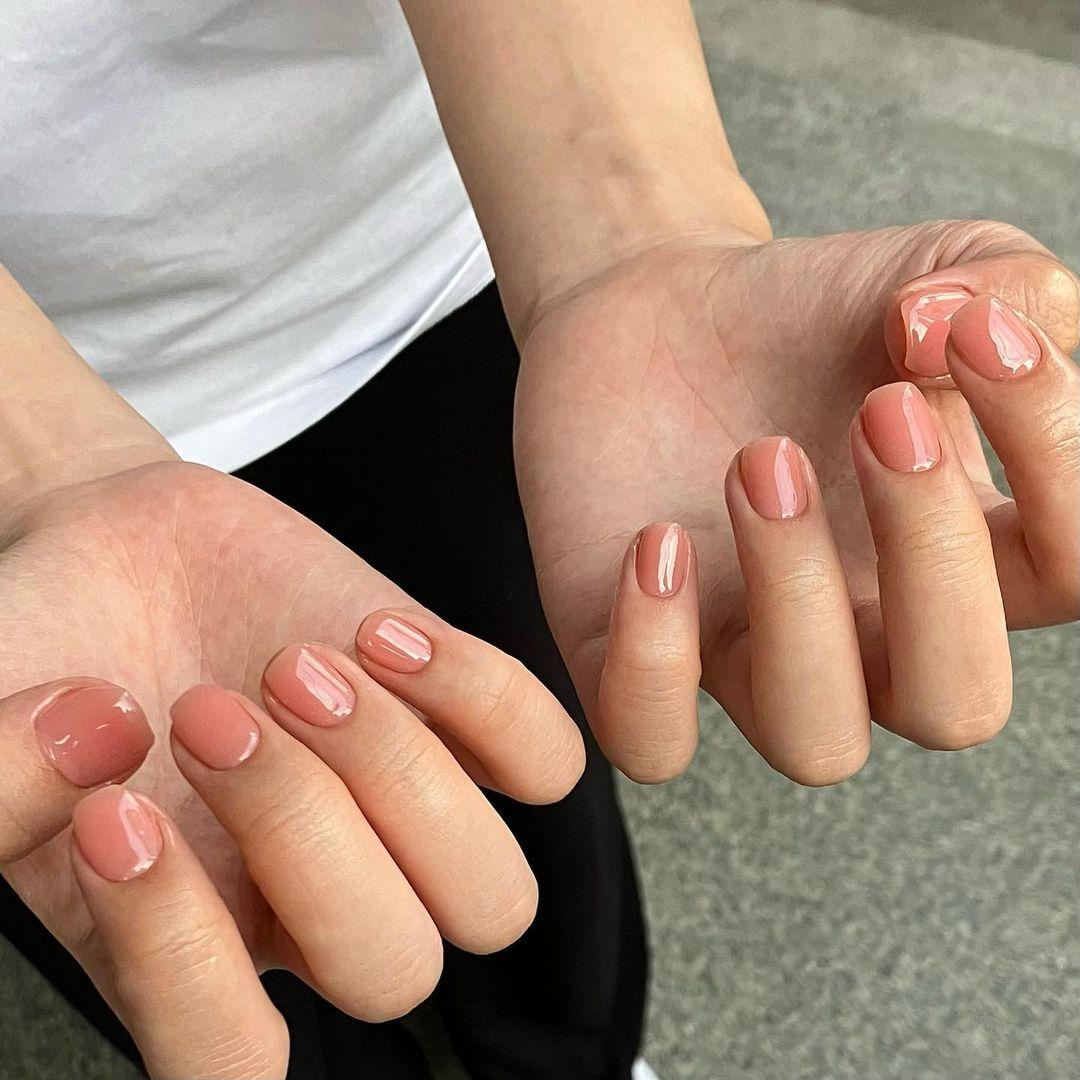nail: (30, 679, 154, 787), (70, 784, 164, 883), (948, 293, 1040, 381), (168, 683, 261, 770), (261, 642, 356, 727), (859, 379, 941, 473), (899, 284, 972, 377), (738, 434, 809, 520), (354, 607, 433, 673), (634, 519, 686, 597)
